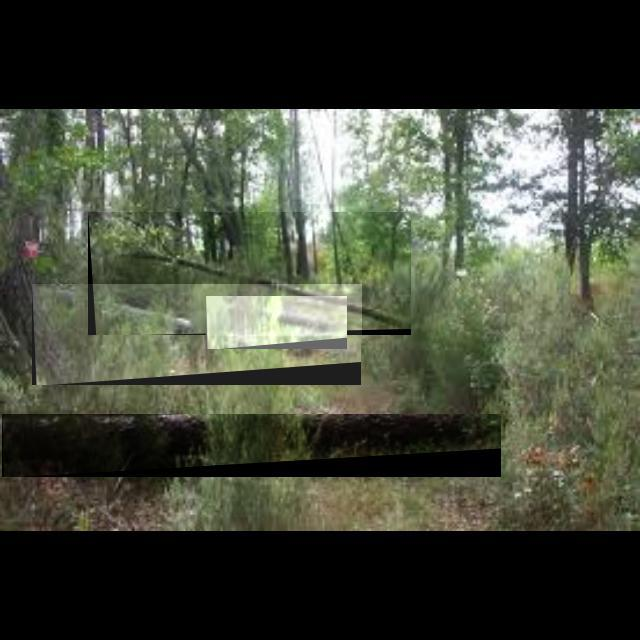fallen_tree: (88, 212, 412, 336), (32, 284, 362, 386), (2, 414, 502, 478), (206, 296, 348, 350)
